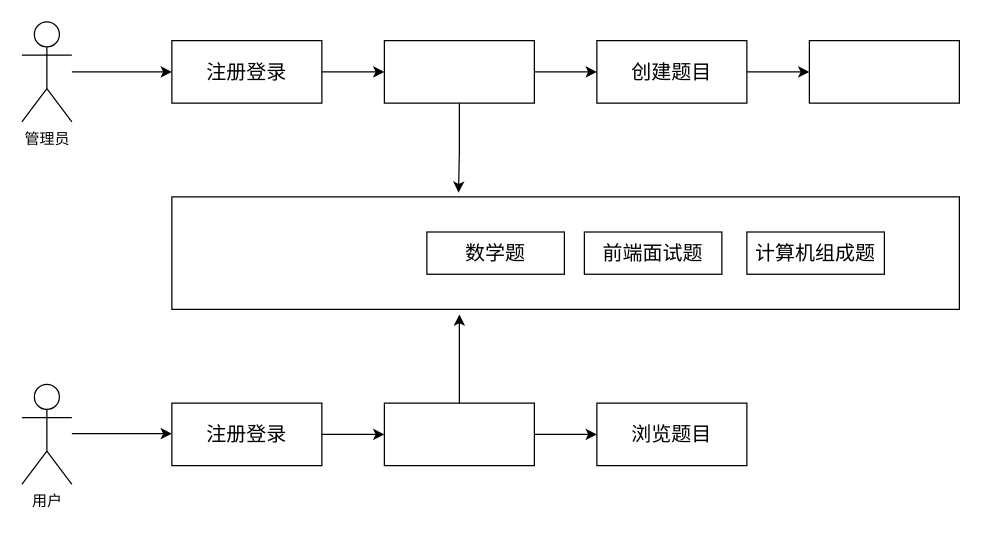
This 981x533 diagram has some shape labels left out. Here are the shapes that lost their labels. From the top down, the box of each, then its label:
(383, 39, 534, 103): 创建题库
(808, 39, 959, 103): 题目加入题库
(171, 196, 959, 309): 智能刷题平台
(383, 402, 534, 466): 浏览题库
